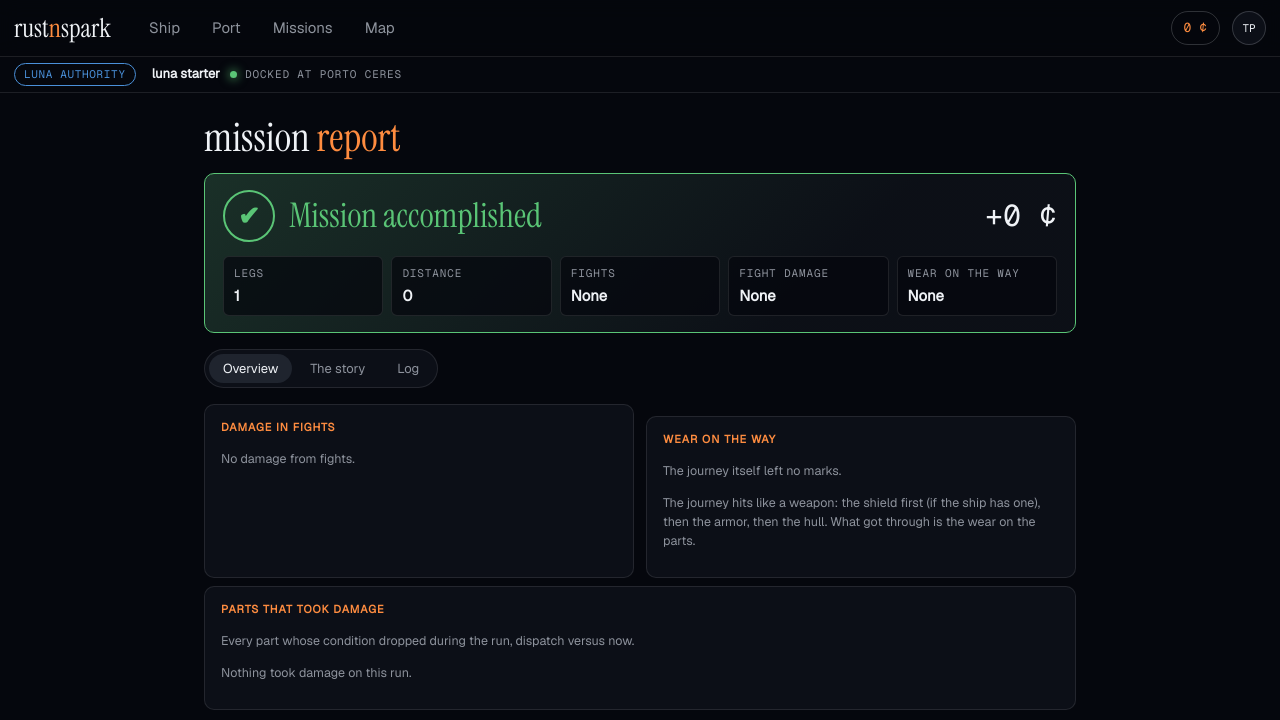
it: report (S10.8) › opens a detail popup for a loot reference
What coordinates should you click on to do the following:
click the tab "The story"
I would click on:
 (338, 369)
Its box is [296,354,379,383].
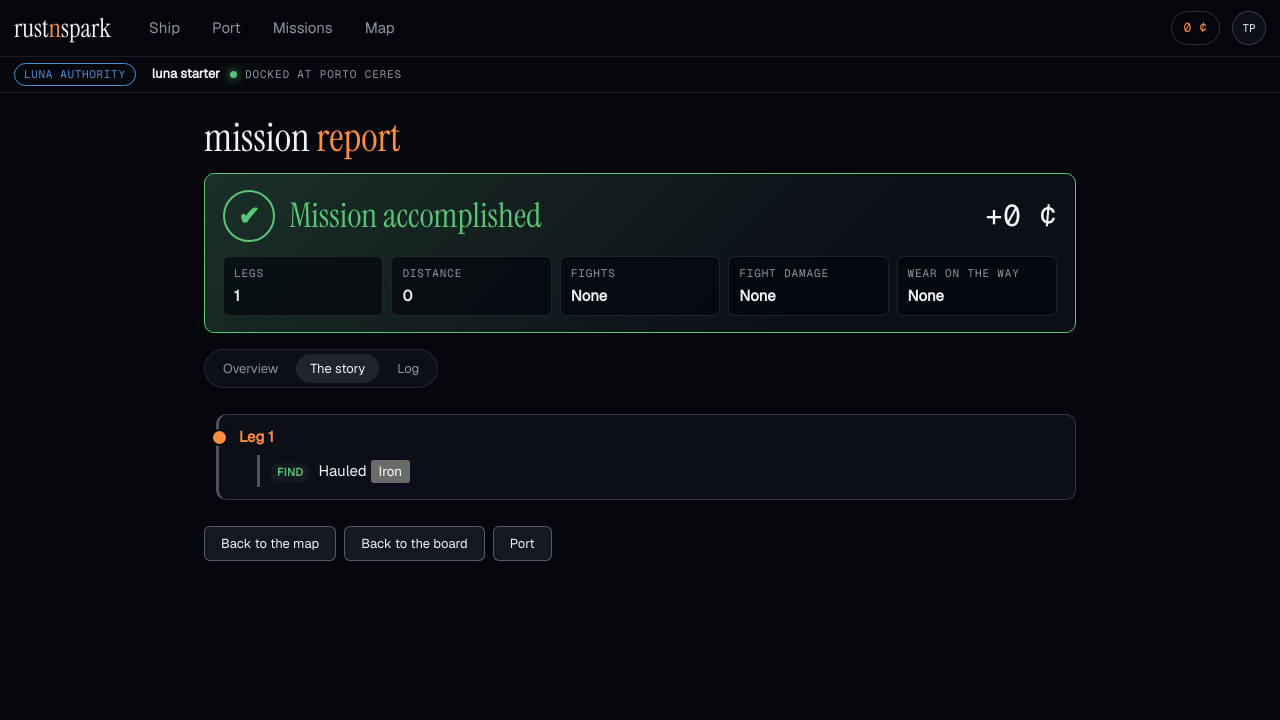
What coordinates should you click on to do the following:
click the button "Iron"
I would click on:
 (390, 471)
Its box is [370,460,410,482].
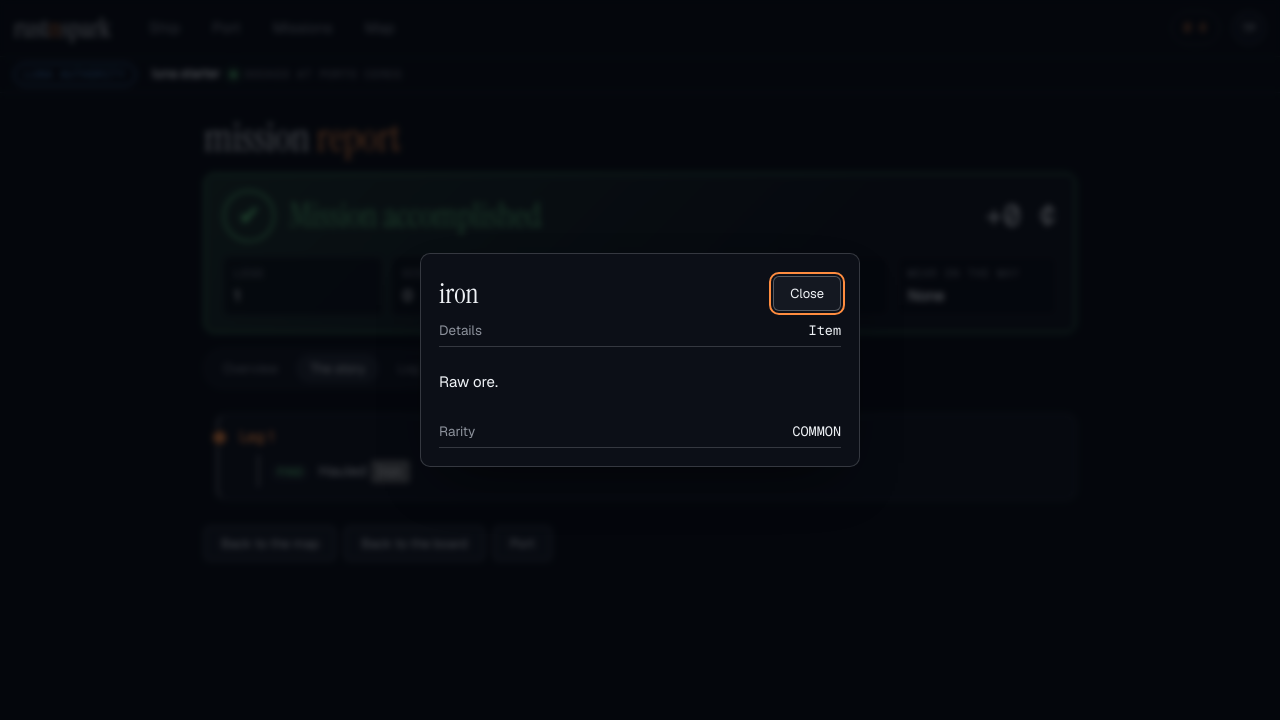
Now the dialog "Iron" shows "Item", box [809,321,841,339]
Now the text "Raw ore." is shown, box [439,372,498,391]
Now the dialog "Iron" shows "Rarity", box [439,422,475,440]
